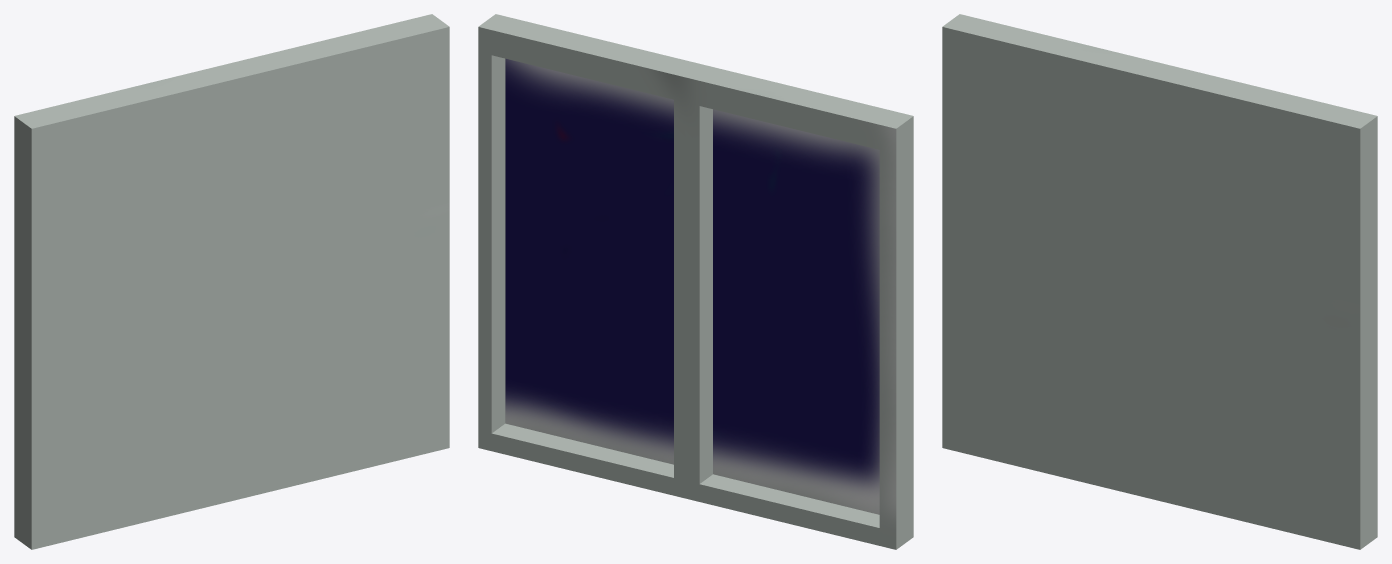
Rendered from window.fbx.
3 renders of one model, left to right at view 1: azimuth 30°, elevation 25°; view 2: azimuth 150°, elevation 25°; view 3: azimuth 330°, elevation 25°, orthographic.
Visible parts, largest first — view 1: Cube; view 2: Cube; view 3: Cube.
Part boxes in pixels (left/top/right/bottom): Cube: left=14, top=14, right=449, bottom=549; Cube: left=478, top=14, right=913, bottom=549; Cube: left=942, top=14, right=1377, bottom=549.
Bounding box in the file's own units: 450 × 434 × 32.75.
1 material, 1 textured.
